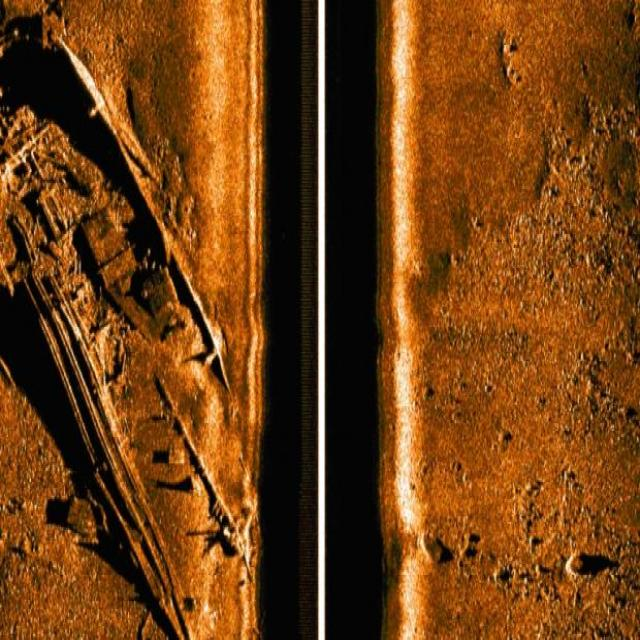ship: (2, 42, 233, 638)
